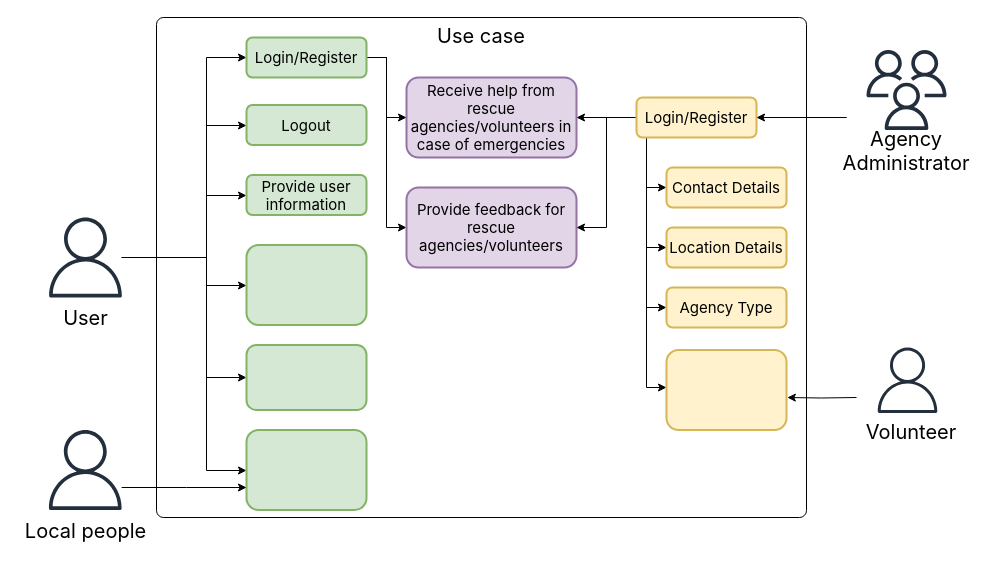
The diagram is 987 pixels wide and 567 high, and some of its shapes have lost their labels. The shapes that lost their labels are listed below. From the top down, each one's box as (x1, y1, x2, y2) in pixels, then its label:
(245, 244, 367, 326): Recieve help from the chatbot
(245, 344, 367, 410): Participate in community forums
(665, 348, 787, 430): Collaborate with other agencies
(245, 428, 367, 510): Help in crowd sourcing data
